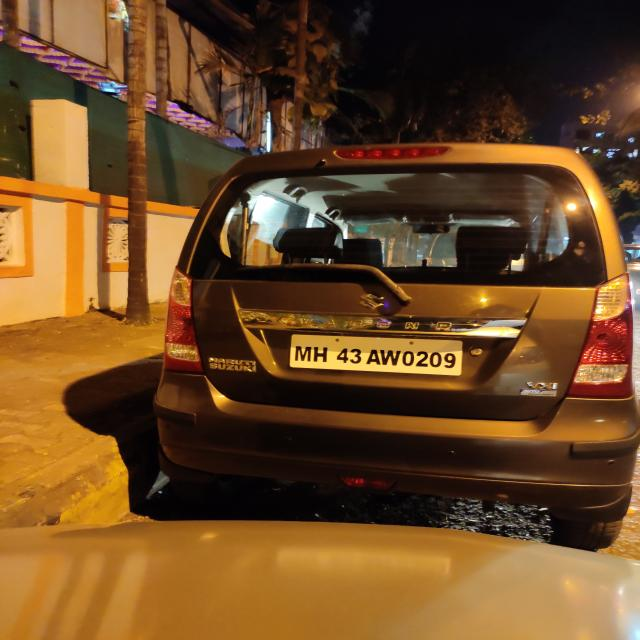Number-Plate: (292, 334, 460, 376)
